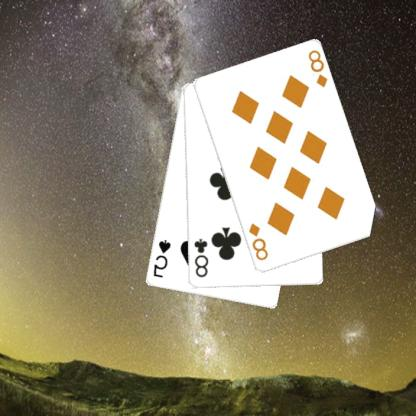5S: (152, 237, 173, 280)
8C: (193, 236, 211, 279)
8D: (248, 220, 271, 262), (308, 47, 330, 89)
